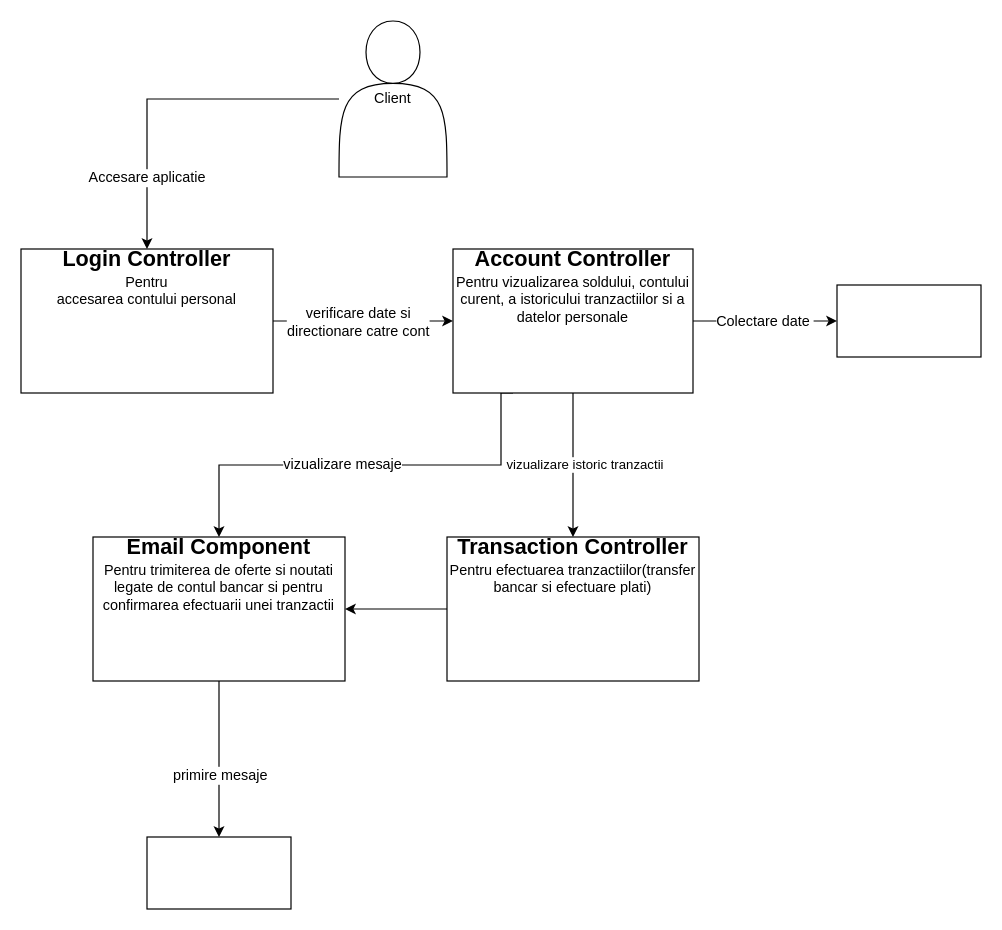
The diagram is 1002 pixels wide and 930 high, and some of its shapes have lost their labels. Here are the shapes that lost their labels. From the top down, the centre of each, then its label:
At (x=908, y=320): "Baza de date a sistemului bancar".
At (x=218, y=872): "Sistem de corespondenta (Email)".
